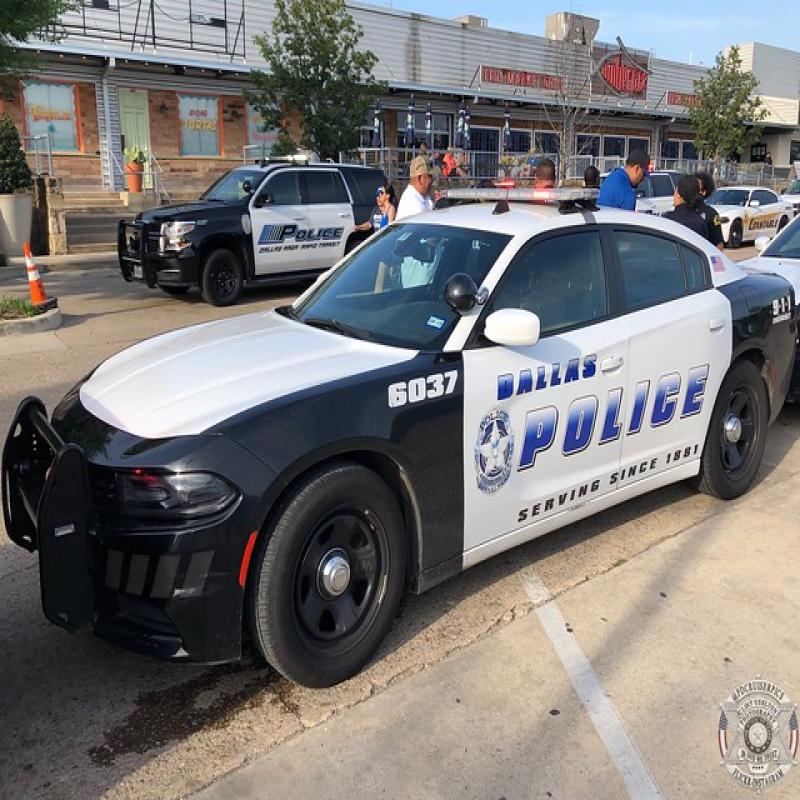AmbulanceSiren: (439, 146, 635, 246)
